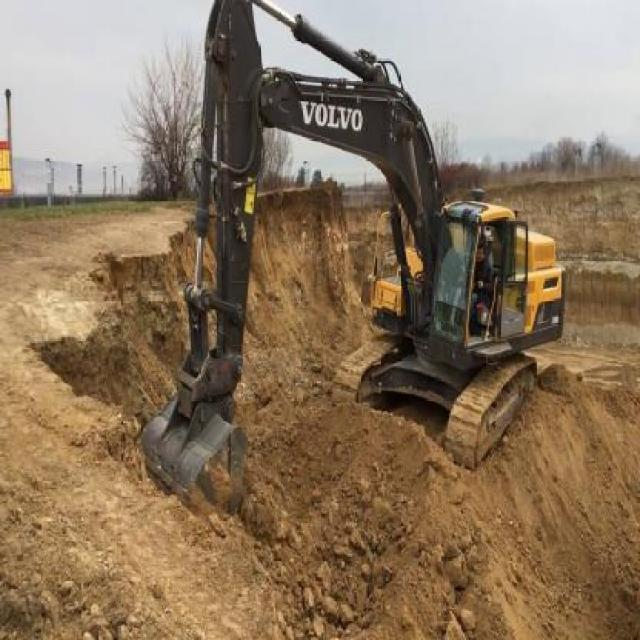Excavator: (142, 0, 564, 520)
